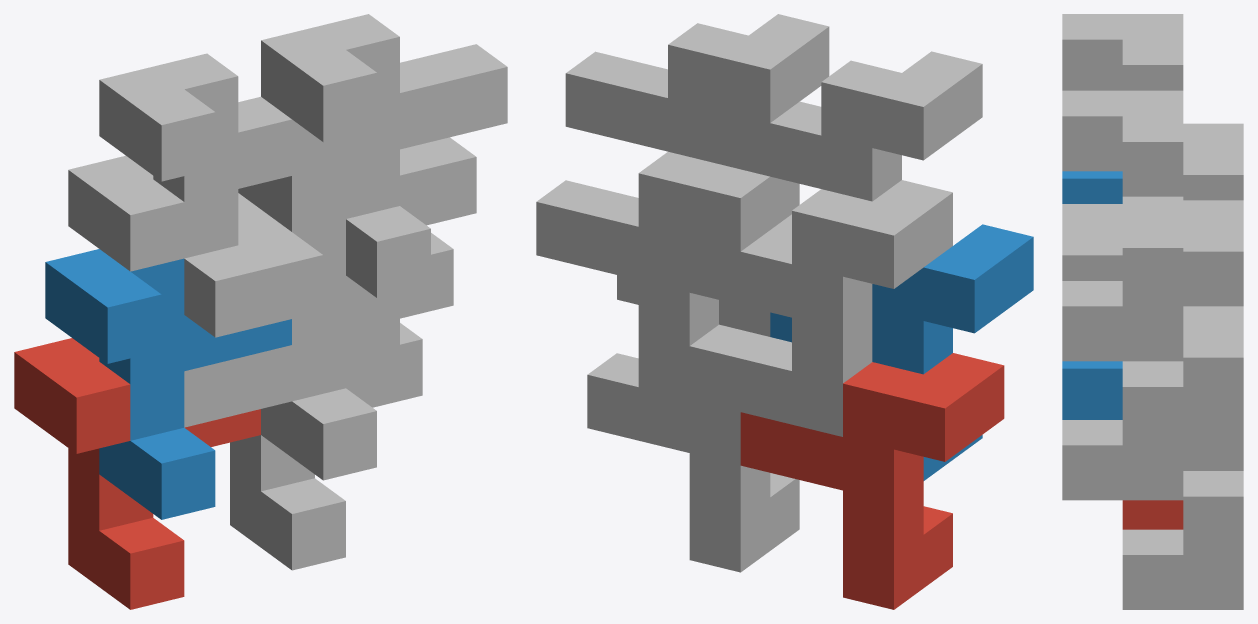
The model's file is tiling.obj.
The picture shows the model from 3 angles, left to right: view 1: azimuth 30°, elevation 25°; view 2: azimuth 150°, elevation 25°; view 3: azimuth 270°, elevation 25°; orthographic projection. The views are drawn at different scales.
Parts seen in each view (by area): view 1: copy_1_domain_8, copy_1_domain_4, copy_1_domain_2, copy_1_domain_6, copy_1_domain_1, copy_1_domain_5, copy_1_domain_7, copy_1_domain_3; view 2: copy_1_domain_1, copy_1_domain_3, copy_1_domain_7, copy_1_domain_5, copy_1_domain_8, copy_1_domain_4, copy_1_domain_2, copy_1_domain_6; view 3: copy_1_domain_8, copy_1_domain_7, copy_1_domain_6, copy_1_domain_5, copy_1_domain_4, copy_1_domain_2, copy_1_domain_3, copy_1_domain_1.
Boxes of the visible parts, box(x1,y1,x2,y2) form: copy_1_domain_8: box(261, 14, 507, 297); copy_1_domain_4: box(99, 53, 345, 337); copy_1_domain_2: box(45, 249, 291, 519); copy_1_domain_6: box(238, 209, 453, 480); copy_1_domain_1: box(14, 338, 260, 609); copy_1_domain_5: box(230, 323, 422, 570); copy_1_domain_7: box(238, 137, 476, 387); copy_1_domain_3: box(68, 155, 260, 427); copy_1_domain_1: box(740, 353, 1004, 609); copy_1_domain_3: box(689, 180, 952, 436); copy_1_domain_7: box(536, 151, 799, 399); copy_1_domain_5: box(587, 324, 799, 572); copy_1_domain_8: box(565, 14, 829, 163); copy_1_domain_4: box(719, 51, 982, 201); copy_1_domain_2: box(770, 224, 1033, 480); copy_1_domain_6: box(617, 214, 791, 336); copy_1_domain_8: box(1062, 90, 1183, 361); copy_1_domain_7: box(1122, 200, 1243, 470); copy_1_domain_6: box(1062, 229, 1183, 500); copy_1_domain_5: box(1122, 471, 1243, 609); copy_1_domain_4: box(1062, 14, 1183, 229); copy_1_domain_2: box(1062, 171, 1122, 419); copy_1_domain_3: box(1183, 123, 1243, 200); copy_1_domain_1: box(1122, 500, 1183, 529).
Bounding box in the file's own units: 8 × 9 × 3.
